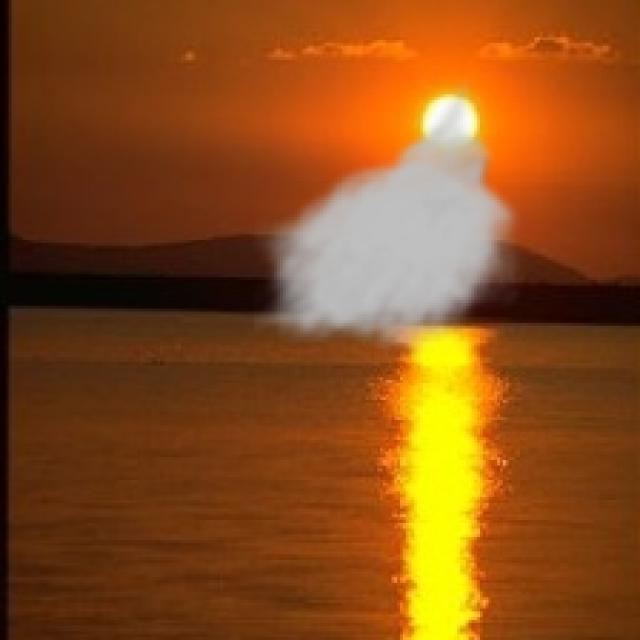smoke: (251, 77, 526, 354)
